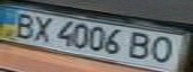0: (69, 21, 90, 51), (87, 25, 109, 53)
4: (51, 19, 75, 48)
6: (103, 27, 127, 56)
B: (124, 29, 157, 61), (6, 11, 39, 39)
O: (145, 34, 184, 65)
X: (27, 14, 57, 43)
